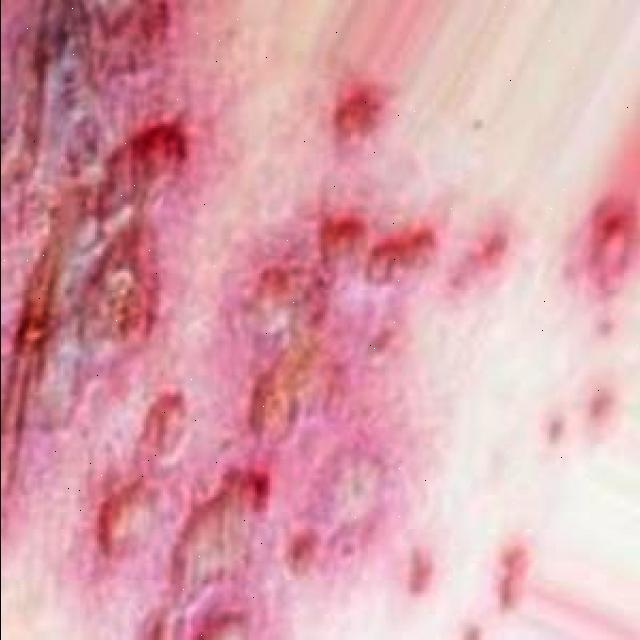Shingles: (4, 0, 434, 624)
